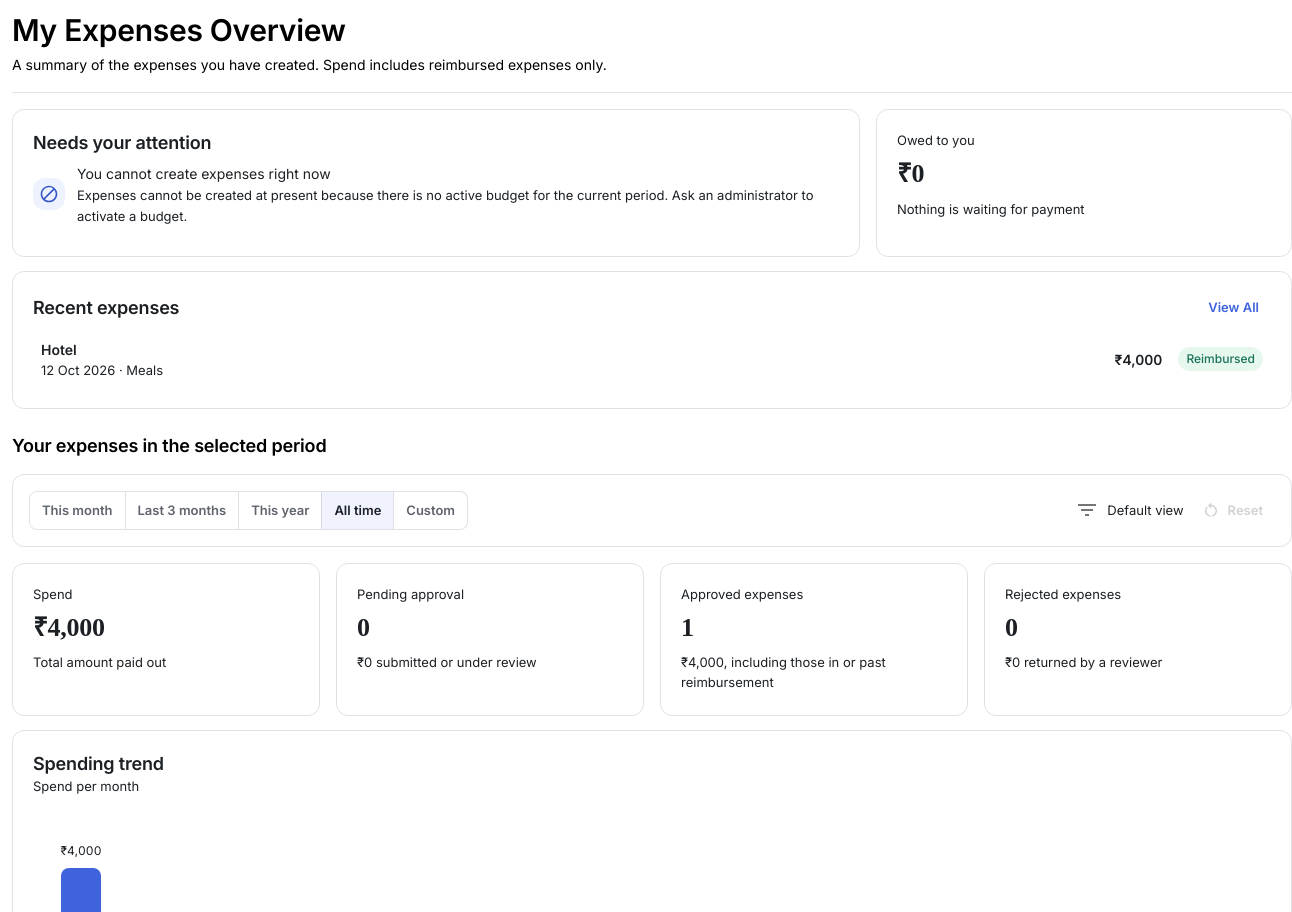
Test: DashboardPage date range › stays usable while an end date before the start date is corrected
This screenshot has width=1292, height=912.
Click the button "Custom": (431, 510) [393, 491, 468, 530]
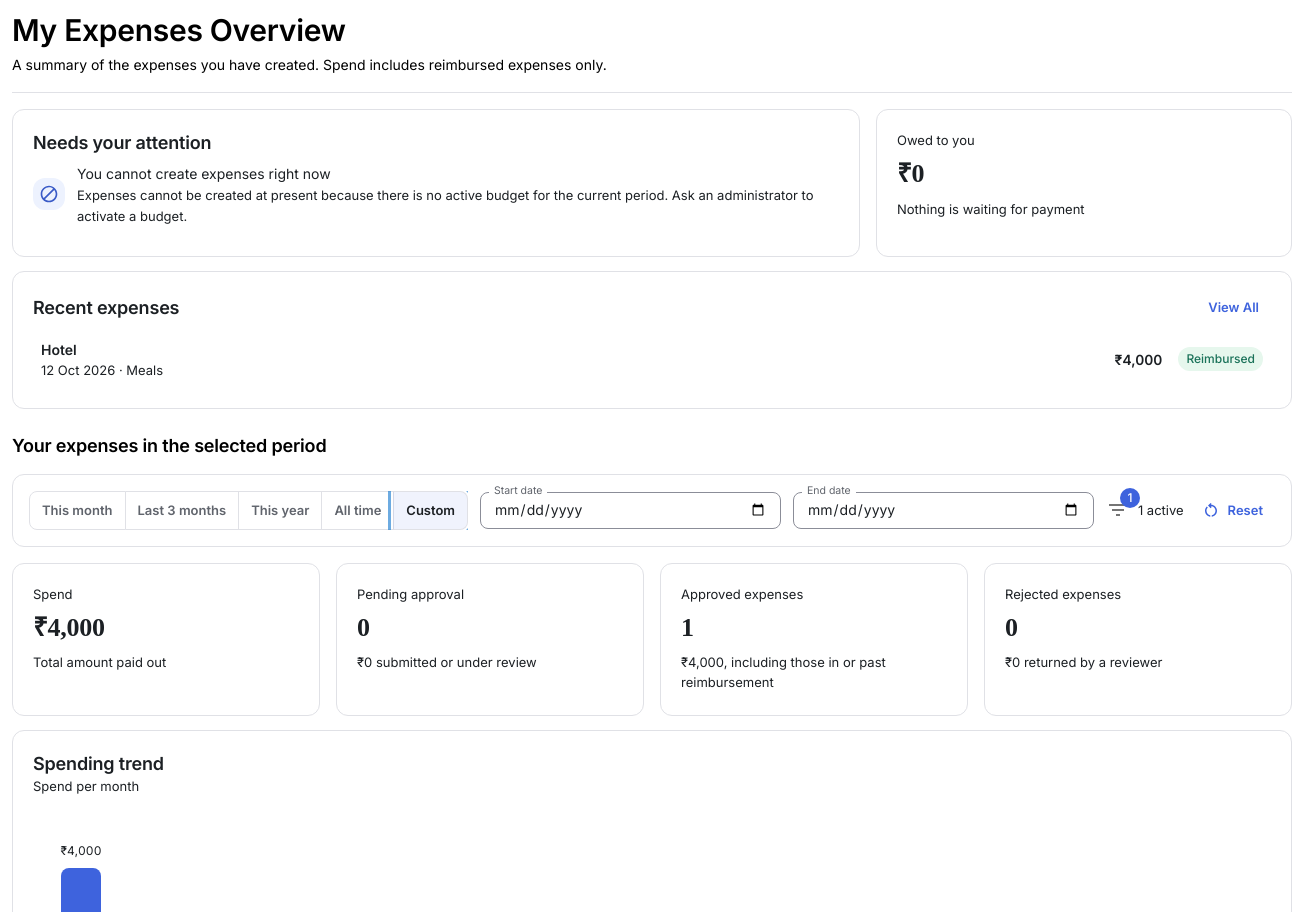
In the date field labelled "Start date": (631, 510) [480, 492, 781, 529], type "2026-10-10"
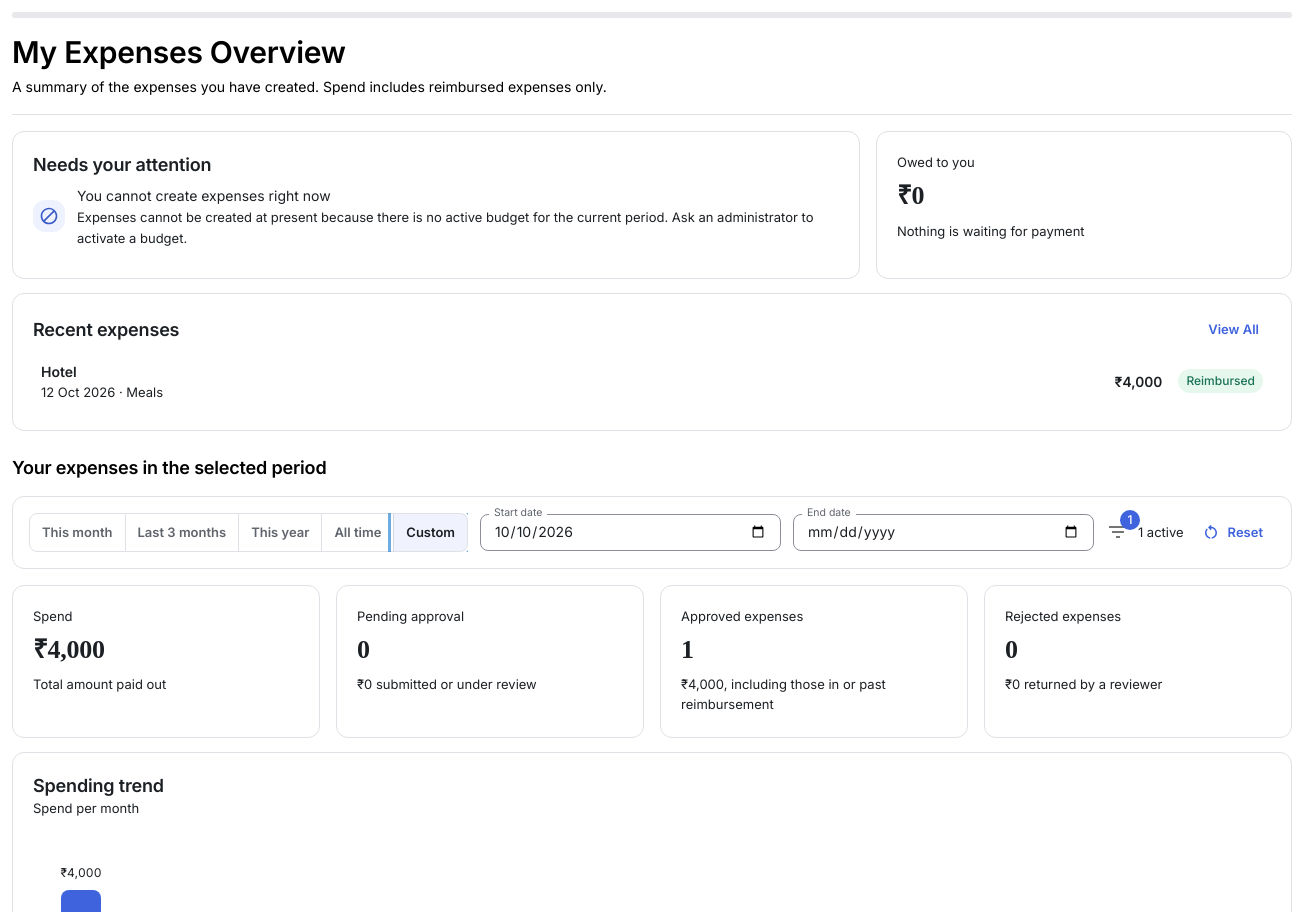
In the date field labelled "End date": (943, 532) [793, 514, 1094, 551], type "2026-10-05"
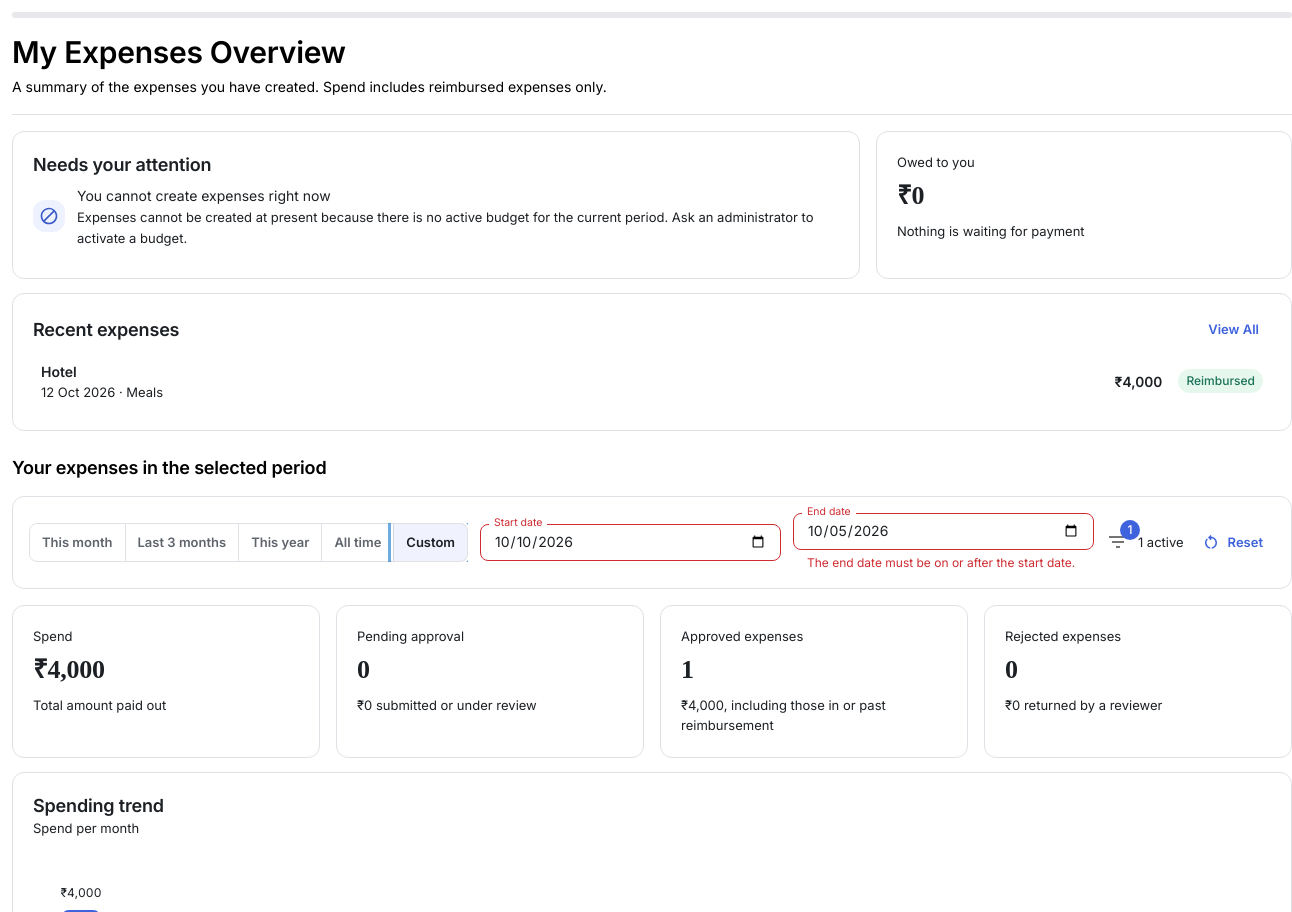
Check: the heading "My Expenses Overview" is shown, box [12, 34, 346, 72]
Check: the text "The end date must be on or after the start date." is shown, box [807, 554, 1080, 572]
In the date field labelled "End date": (943, 531) [793, 513, 1094, 550], type "2026-10-20"
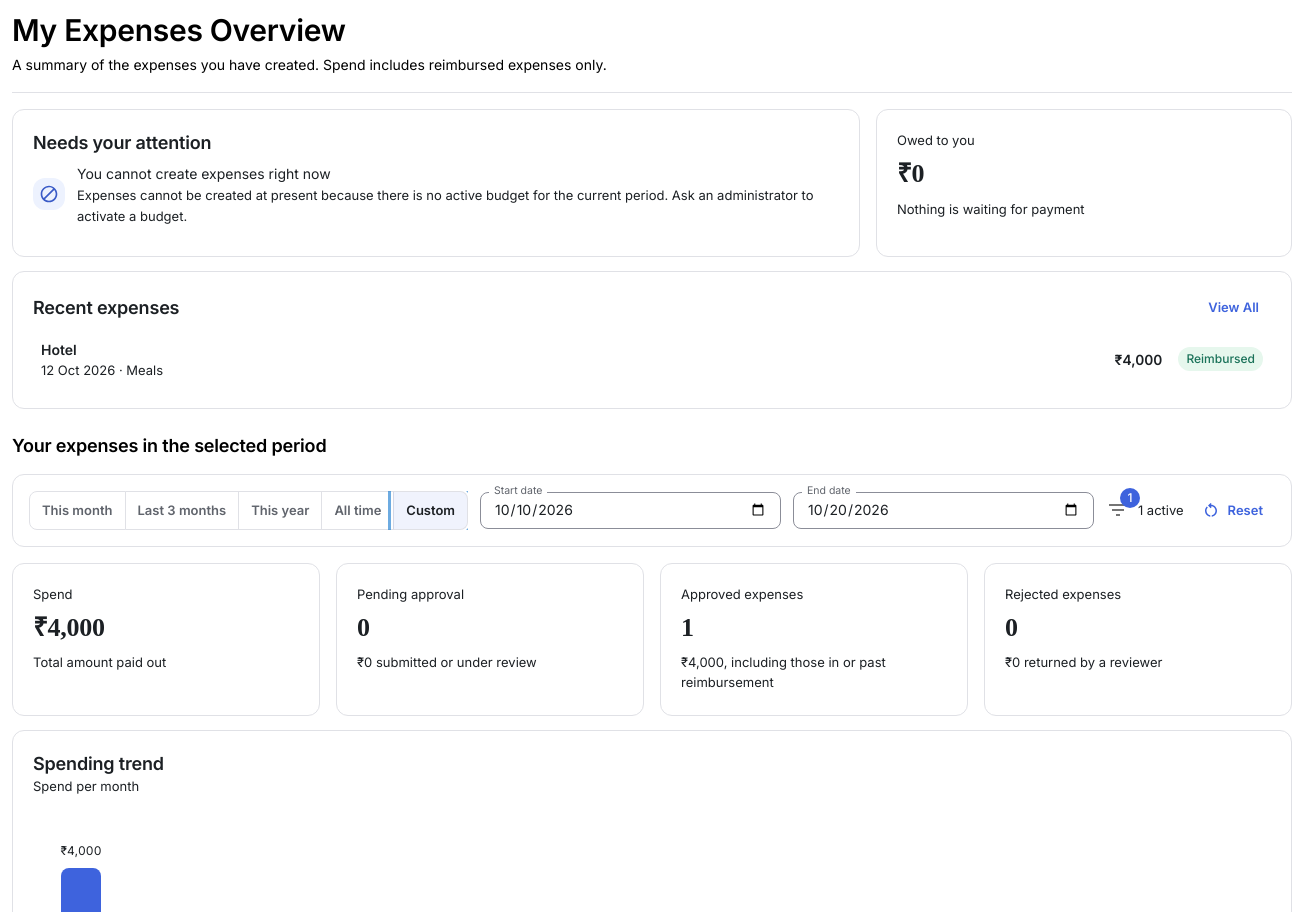
Check: the text "₹4,000" in the row of "12 Oct 2026" is shown, box [1115, 351, 1162, 368]
Check: the text "The end date must be on or after the start date." is gone
